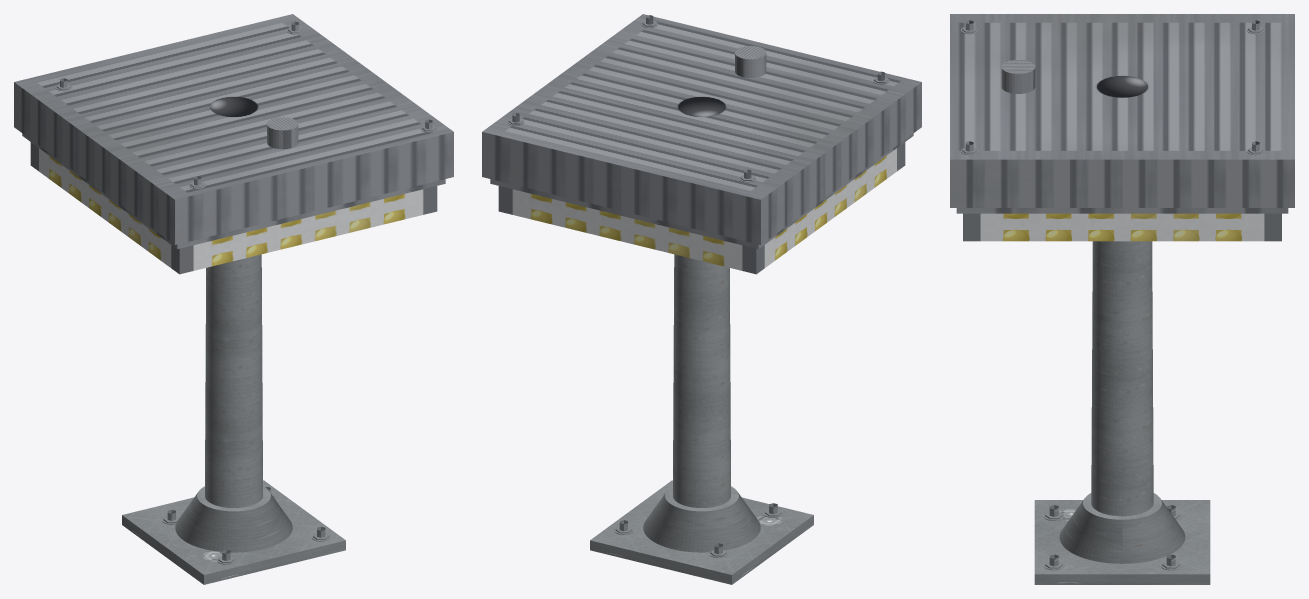
The model's file is electric_lamp.obj.
The picture shows the model from 3 angles, left to right: view 1: azimuth 30°, elevation 25°; view 2: azimuth 150°, elevation 25°; view 3: azimuth 270°, elevation 25°; orthographic projection. The views are drawn at different scales.
Visible parts, largest first — view 1: head, column, base, lens_off; view 2: head, column, base, lens_off; view 3: head, column, base, lens_off.
Part boxes in pixels (x1,y1,x2,y2): head: [14, 14, 453, 249]; column: [205, 254, 262, 507]; base: [122, 480, 345, 584]; lens_off: [30, 142, 437, 274]; head: [482, 14, 921, 249]; column: [673, 254, 730, 507]; base: [590, 480, 813, 584]; lens_off: [498, 142, 905, 274]; head: [950, 14, 1294, 213]; column: [1091, 241, 1153, 516]; base: [1034, 493, 1210, 584]; lens_off: [963, 213, 1281, 241].
Bounding box in the file's own units: 0.53 × 0.816 × 0.53.
